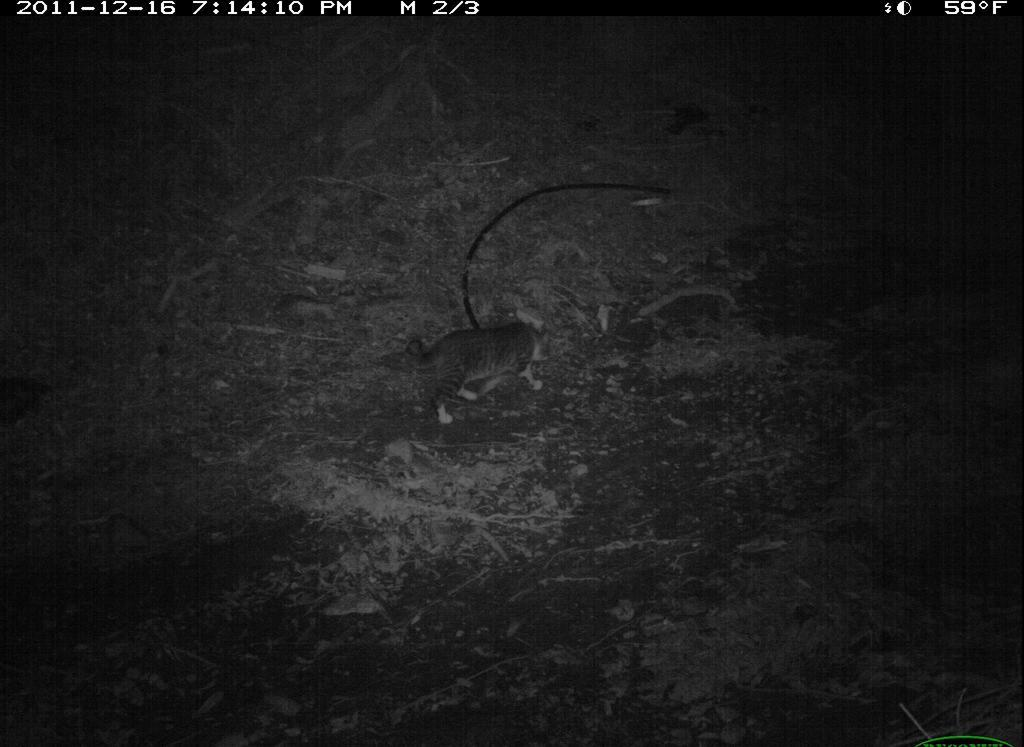cat: (401, 313, 565, 434)
